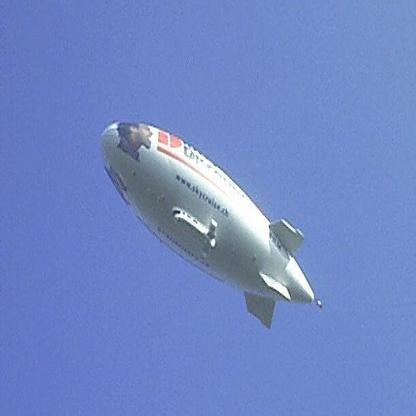Airship: (100, 120, 333, 334)
